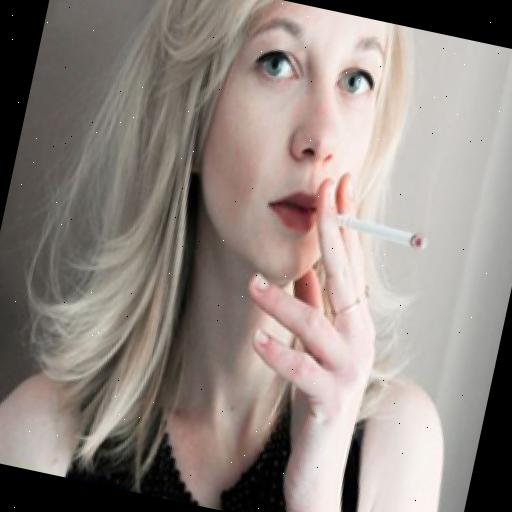terdeteksi merokok: (286, 70, 469, 298)
